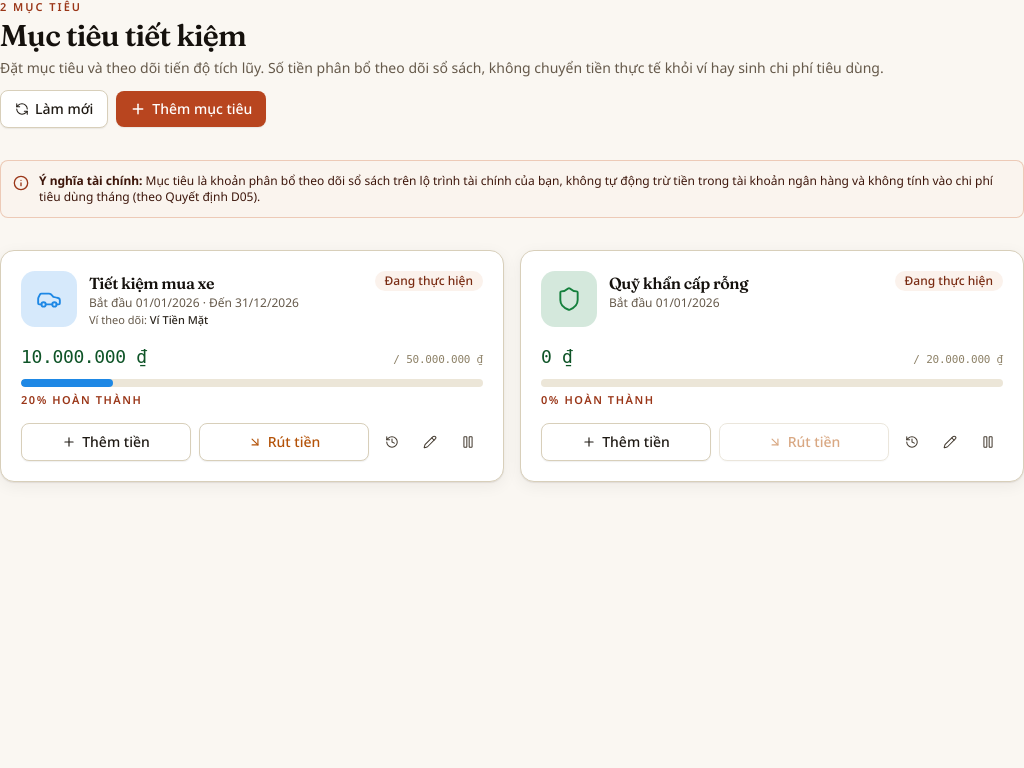
Scenario: GoalsPage (TIP-008 / F16) › renders contribution history ledger with + and - signs (AC-008-4)
The width and height of the screenshot is (1024, 768).
Check: the text "Tiết kiệm mua xe" is shown, box [89,273,214,293]
Note: Click history button
Click the button named "Lịch sử Tiết kiệm mua xe". click: [392, 442]
box: [377,427,407,457]
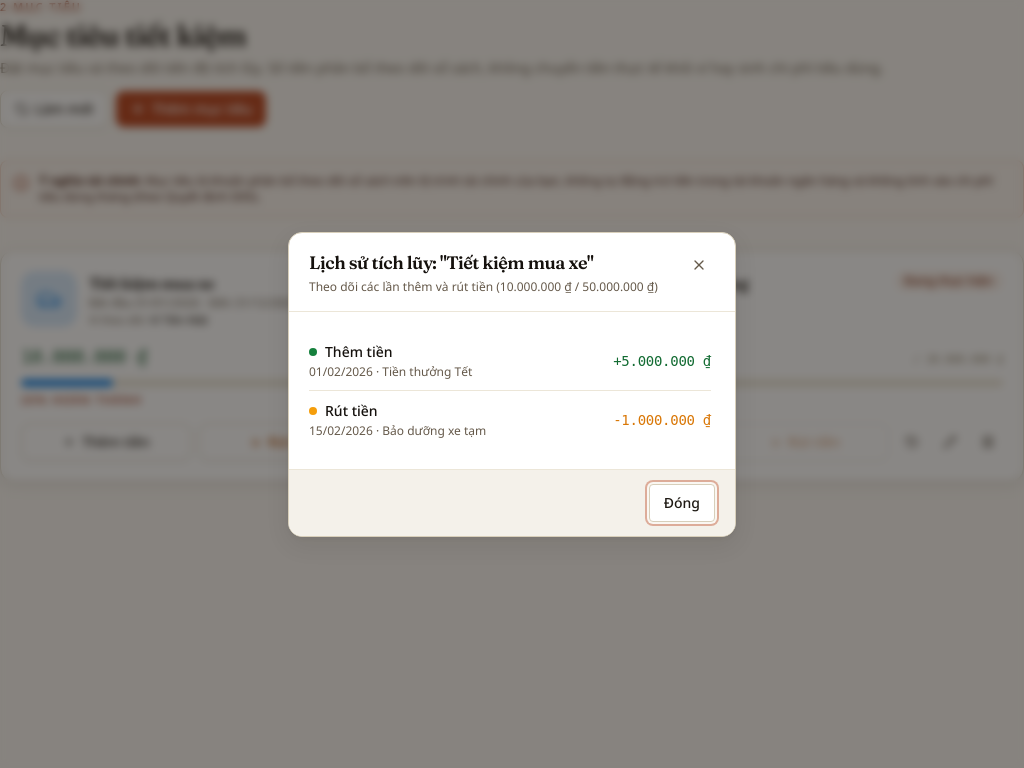
Check: the text "01/02/2026 · Tiền thưởng Tết" is shown, box [309,364,472,380]
Check: the text "15/02/2026 · Bảo dưỡng xe tạm" is shown, box [309,422,486,438]
Check: the text "+5.000.000 ₫" is shown, box [613,350,711,370]
